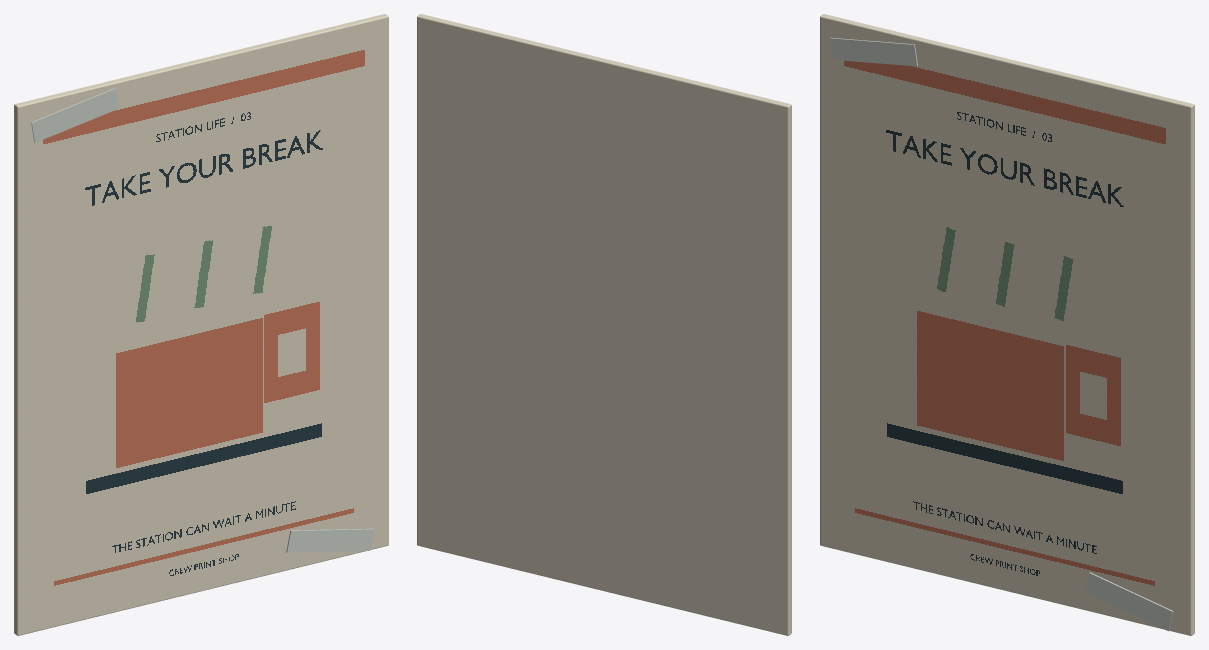
Rendered from lbd_poster_break.glb.
3 views of the same model, side by side, from view 1: azimuth 30°, elevation 25°; view 2: azimuth 150°, elevation 25°; view 3: azimuth 330°, elevation 25° (orthographic).
Parts seen in each view (by area): view 1: poster_break__poster_break_004, poster_break__backing_003, poster_break__paper tape_007, poster_break__paper tape_010; view 2: poster_break__backing_003; view 3: poster_break__poster_break_004, poster_break__backing_003, poster_break__paper tape_010, poster_break__paper tape_007.
Boxes of the visible parts, x1,y1,x2,y2 form: poster_break__poster_break_004: (24, 25, 382, 627); poster_break__backing_003: (14, 14, 388, 635); poster_break__paper tape_007: (31, 88, 118, 142); poster_break__paper tape_010: (286, 528, 374, 552); poster_break__backing_003: (417, 14, 791, 635); poster_break__poster_break_004: (826, 25, 1184, 627); poster_break__backing_003: (820, 14, 1194, 635); poster_break__paper tape_010: (1085, 572, 1173, 631); poster_break__paper tape_007: (830, 37, 917, 66).
Bounding box in the file's own units: 0.83 × 1.13 × 0.0225.
Materials: 3 (1 with a texture image).
